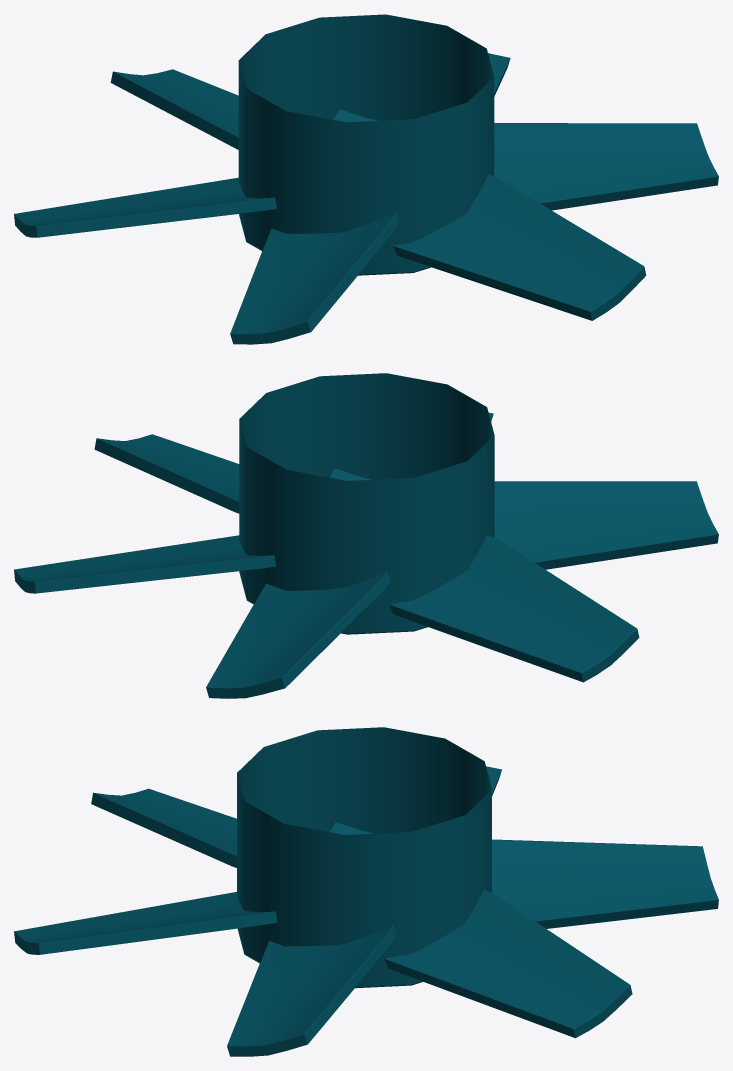
File: VentiladorPeque.fbx
3 views of the same model, one above another, from view 1: azimuth 30°, elevation 25°; view 2: azimuth 150°, elevation 25°; view 3: azimuth 270°, elevation 25° (orthographic).
Parts seen in each view (by area): view 1: Cone.004; view 2: Cone.004; view 3: Cone.004.
Boxes of the visible parts, x1=… form: Cone.004: x1=14, y1=14, x2=718, y2=344; Cone.004: x1=14, y1=373, x2=718, y2=698; Cone.004: x1=14, y1=727, x2=718, y2=1056.
Bounding box in the file's own units: 96.24 × 26.5 × 97.67.
